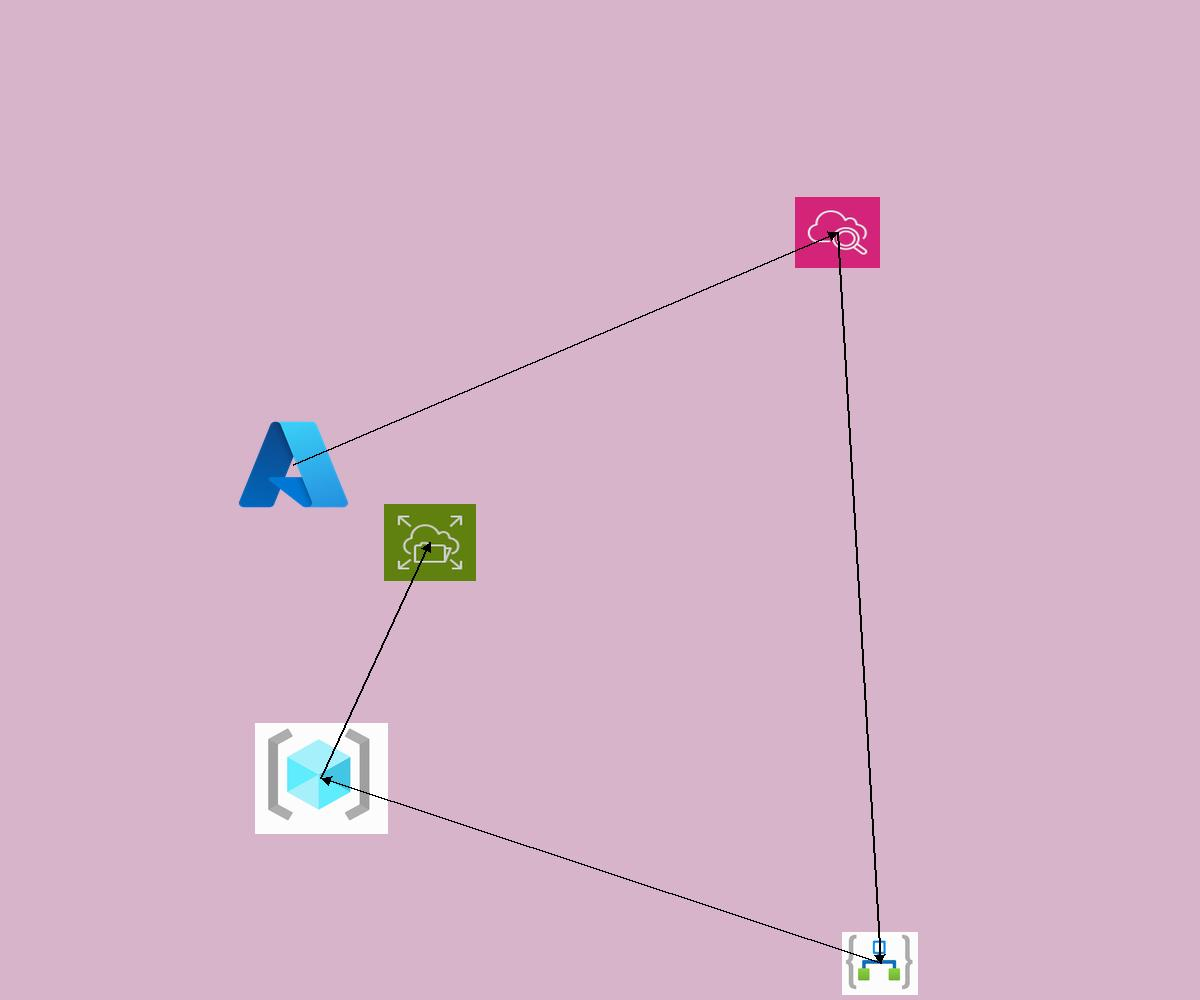AWS-CloudWatch: (795, 197, 880, 268)
AWS-EFS: (384, 504, 476, 581)
Azure_integration-204-Logic-Apps: (842, 932, 918, 995)
Azure_resource_group: (255, 723, 388, 834)
Azure_services: (234, 415, 353, 514)
